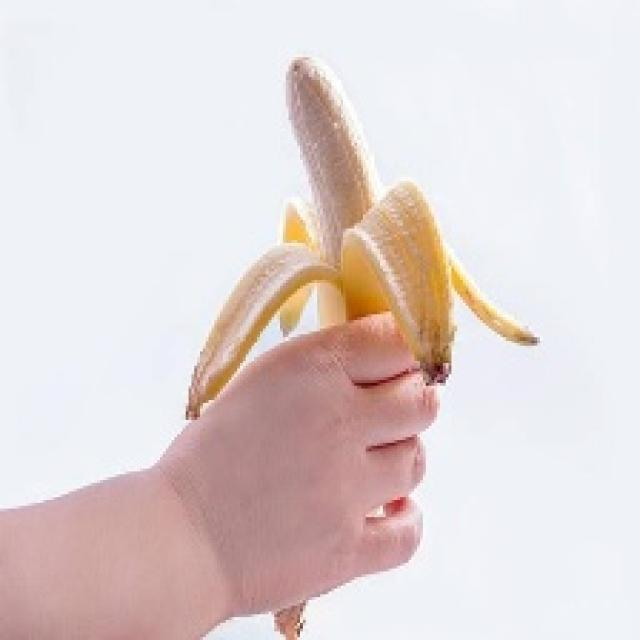Banana: (183, 51, 540, 420)
